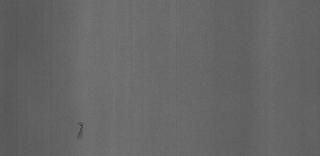water spot: (73, 114, 89, 144)
